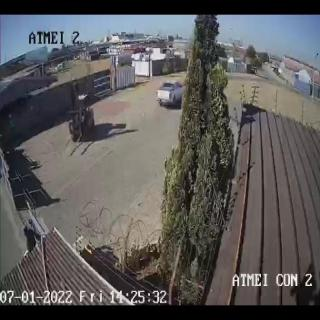car: (156, 80, 182, 107)
